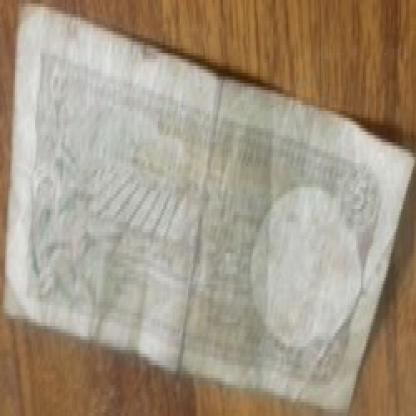Five Taka: (42, 55, 68, 111), (351, 173, 366, 236)
